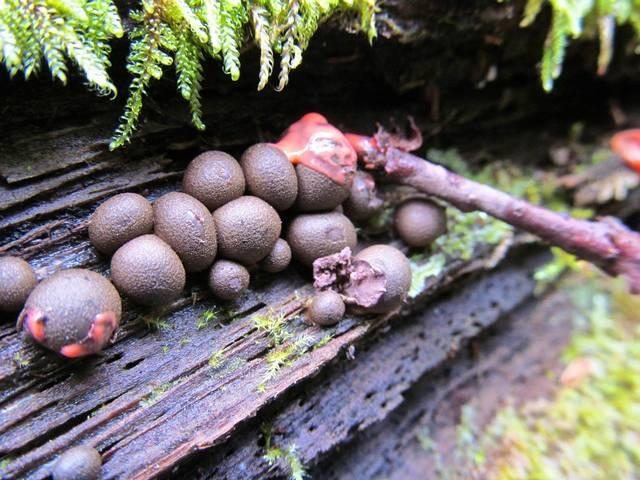poisonous_mushroom: (8, 112, 445, 359), (15, 267, 122, 359), (266, 110, 358, 187), (109, 232, 186, 307), (344, 243, 412, 315), (86, 191, 153, 255), (392, 196, 447, 247), (0, 253, 37, 313), (50, 444, 103, 479), (305, 288, 345, 326)
